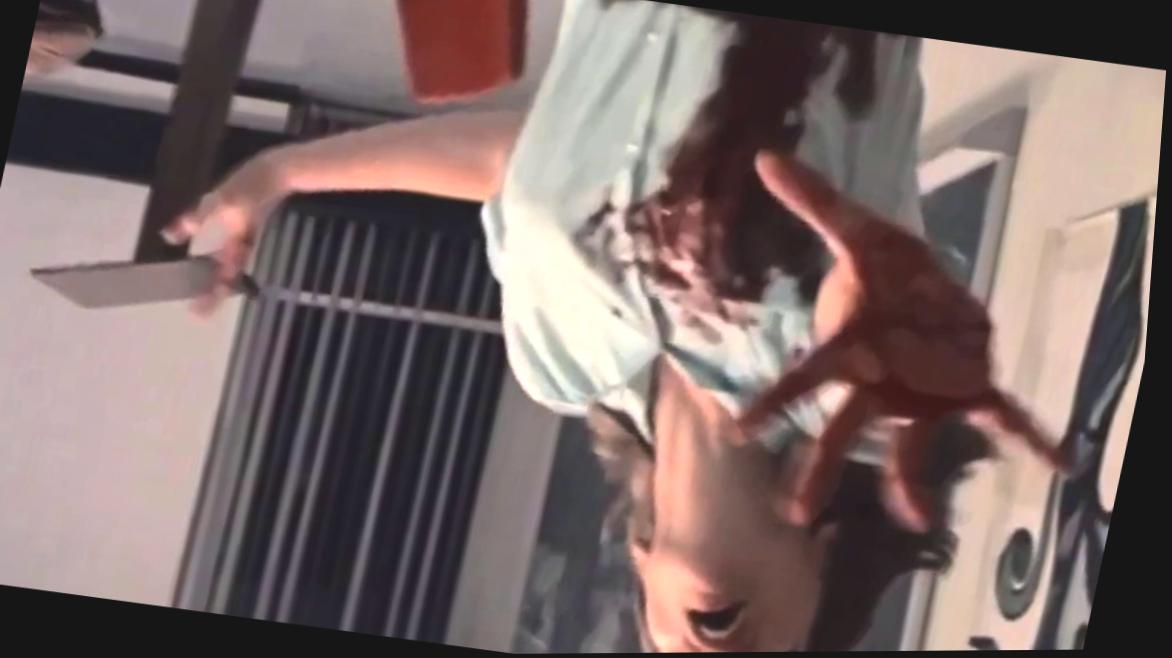Fire: (578, 8, 1066, 476)
